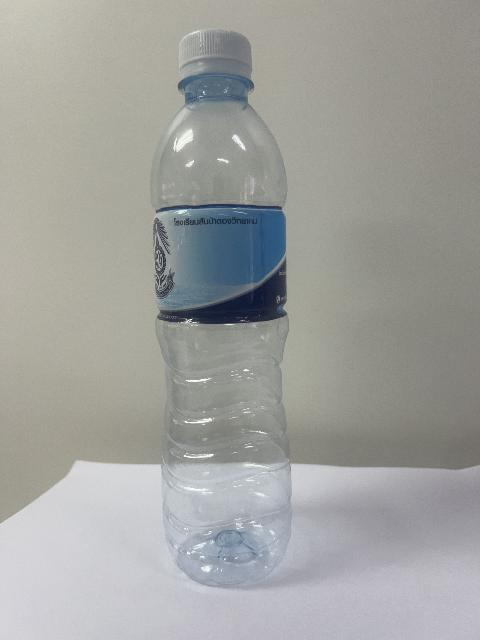bottle: (151, 29, 291, 585)
